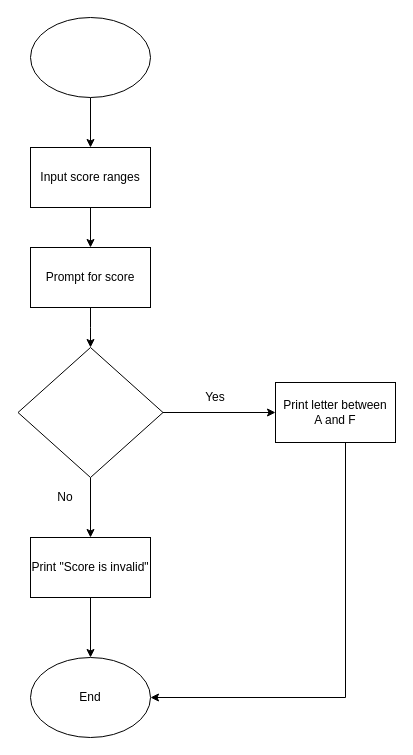
Image size: 413x755. Some labels were removed from this diagram. Here are the shapes that lost their labels. From the top down, the centre of each, then its label:
the point at 90,57: Start
the point at 90,412: Is score between 0 and 100?
